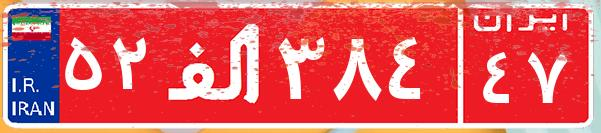2: (110, 28, 158, 105)
3: (273, 28, 330, 110)
4: (385, 28, 445, 110), (475, 38, 525, 113)
5: (57, 26, 110, 107)
7: (525, 38, 570, 115)
8: (330, 28, 385, 110)
الف: (158, 15, 273, 115)
